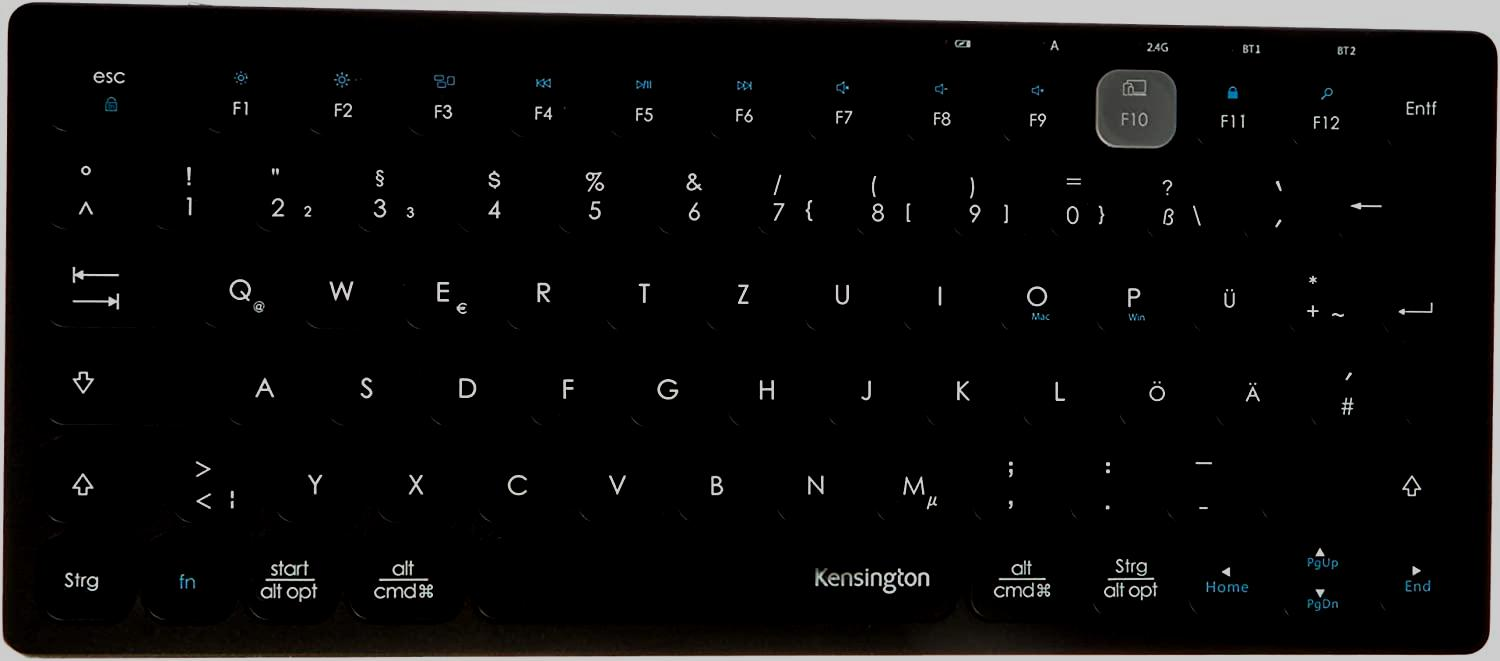0: (1041, 156, 1127, 243)
1: (143, 144, 232, 230)
2: (246, 147, 336, 233)
3: (346, 147, 437, 235)
4: (449, 147, 538, 234)
5: (549, 149, 639, 236)
6: (649, 152, 738, 238)
7: (747, 152, 837, 239)
8: (845, 154, 933, 240)
9: (944, 154, 1030, 242)
a: (218, 340, 308, 427)
accent: (1235, 159, 1320, 243)
ae: (1209, 347, 1293, 431)
alt-left: (242, 533, 336, 624)
altgr-right: (1073, 534, 1186, 621)
b: (669, 440, 760, 524)
c: (470, 439, 561, 526)
caret: (39, 143, 130, 230)
comma: (965, 440, 1052, 525)
d: (421, 342, 511, 429)
del: (1330, 159, 1462, 245)
e: (396, 244, 486, 333)
enter: (1375, 253, 1461, 434)
f: (523, 342, 610, 428)
g: (621, 343, 710, 430)
h: (721, 344, 808, 430)
hash: (1304, 348, 1387, 432)
i: (896, 249, 981, 333)
j: (820, 344, 907, 431)
k: (919, 345, 1005, 430)
keyboard: (3, 3, 1496, 660)
l: (1016, 345, 1101, 431)
less: (164, 437, 256, 525)
m: (867, 439, 957, 527)
minus: (1158, 443, 1244, 525)
n: (769, 441, 859, 525)
o: (993, 251, 1079, 338)
oe: (1113, 348, 1198, 431)
p: (1090, 252, 1174, 337)
plus: (1281, 253, 1364, 338)
point: (1063, 442, 1148, 524)
q: (192, 243, 284, 332)
r: (499, 246, 587, 332)
s: (320, 342, 410, 429)
shift-left: (34, 437, 154, 526)
shift-lock: (33, 338, 204, 427)
shift-right: (1253, 441, 1461, 526)
space: (467, 533, 957, 625)
ss: (1137, 159, 1223, 243)
strg-left: (33, 534, 127, 623)
t: (599, 247, 686, 332)
tab: (36, 239, 180, 329)
u: (797, 248, 885, 335)
ue: (1185, 252, 1270, 337)
v: (570, 439, 661, 524)
w: (295, 242, 384, 329)
x: (370, 438, 460, 524)
y: (268, 437, 358, 524)
z: (697, 248, 786, 334)
